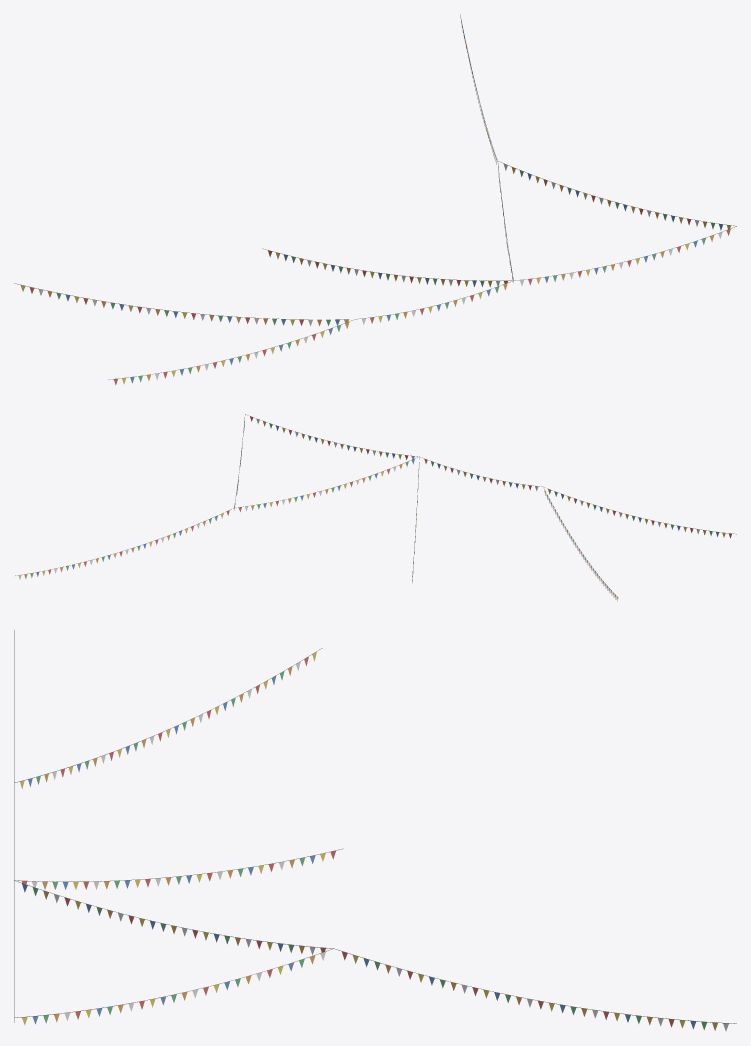
File: pennants.glb
3 views of the same model, one above another, from view 1: azimuth 30°, elevation 25°; view 2: azimuth 150°, elevation 25°; view 3: azimuth 270°, elevation 25° (orthographic). The views are drawn at different scales.
Visible parts, largest first — view 1: pennants_dark, pennants_flag_r, pennants_flag_y, pennants_flag_b, pennants_flag_g, pennants_flag_o, pennants_paint_w; view 2: pennants_dark, pennants_flag_r, pennants_flag_o, pennants_flag_g, pennants_flag_y, pennants_flag_b, pennants_paint_w; view 3: pennants_dark, pennants_flag_o, pennants_paint_w, pennants_flag_g, pennants_flag_b, pennants_flag_y, pennants_flag_r.
Part boxes in pixels (left/top/right/bottom): pennants_dark: left=14, top=14, right=736, bottom=379; pennants_flag_r: left=29, top=44, right=730, bottom=385; pennants_flag_y: left=20, top=39, right=730, bottom=384; pennants_flag_b: left=65, top=35, right=722, bottom=383; pennants_flag_g: left=56, top=30, right=714, bottom=382; pennants_flag_o: left=47, top=25, right=714, bottom=380; pennants_paint_w: left=38, top=20, right=722, bottom=379; pennants_dark: left=15, top=414, right=736, bottom=598; pennants_flag_r: left=48, top=416, right=731, bottom=599; pennants_flag_o: left=24, top=421, right=705, bottom=594; pennants_flag_g: left=30, top=423, right=712, bottom=592; pennants_flag_y: left=42, top=419, right=725, bottom=601; pennants_flag_b: left=36, top=423, right=719, bottom=590; pennants_paint_w: left=18, top=418, right=699, bottom=597; pennants_dark: left=14, top=630, right=736, bottom=1023; pennants_flag_o: left=42, top=666, right=717, bottom=1030; pennants_paint_w: left=32, top=661, right=728, bottom=1031; pennants_flag_g: left=32, top=671, right=706, bottom=1029; pennants_flag_b: left=22, top=676, right=696, bottom=1029; pennants_flag_y: left=20, top=652, right=684, bottom=1028; pennants_flag_r: left=14, top=657, right=674, bottom=1027.
Bounding box in the file's own units: 33.51 × 2.05 × 26.01.
